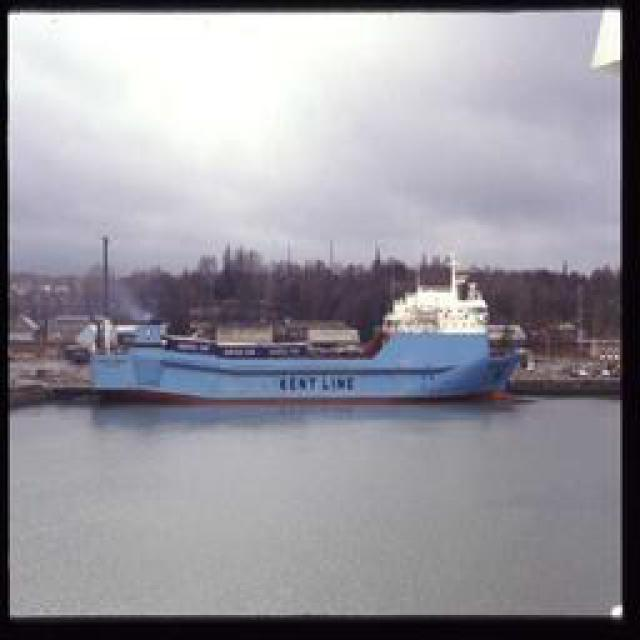Ship: (52, 322, 532, 405)
